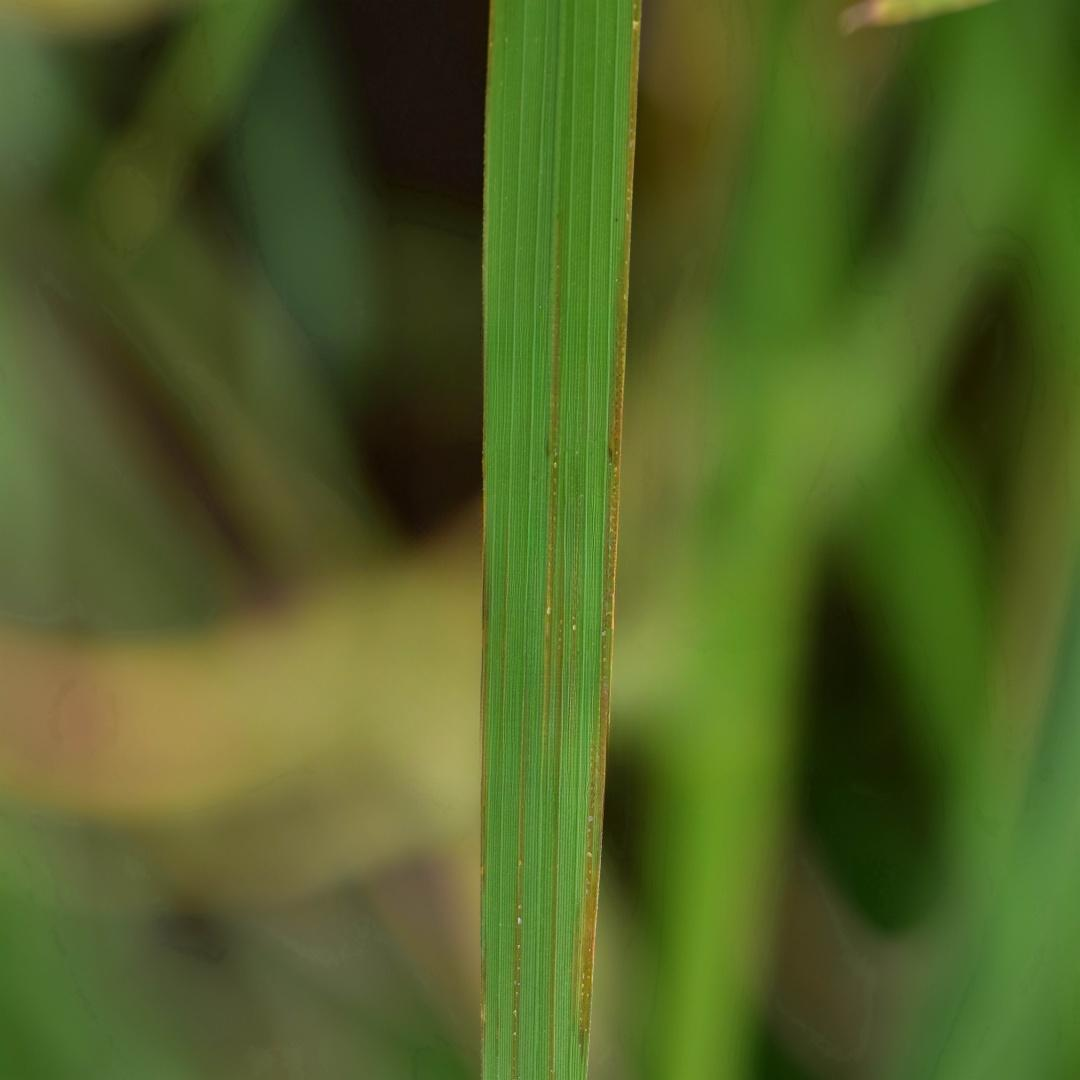BLS: (571, 0, 641, 1067), (542, 215, 561, 773), (512, 694, 525, 1079), (482, 400, 490, 894), (549, 837, 559, 1078), (555, 551, 565, 764), (568, 554, 577, 726)
LEAF: (480, 0, 641, 1079)
